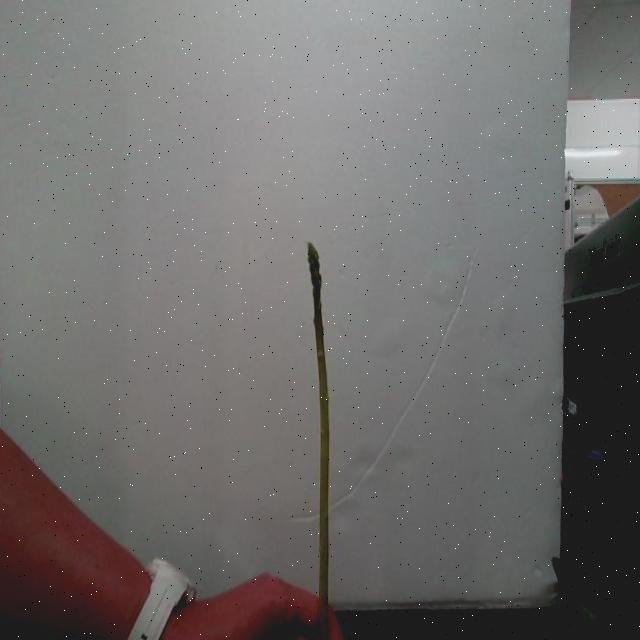aspargus: (306, 246, 332, 640)
